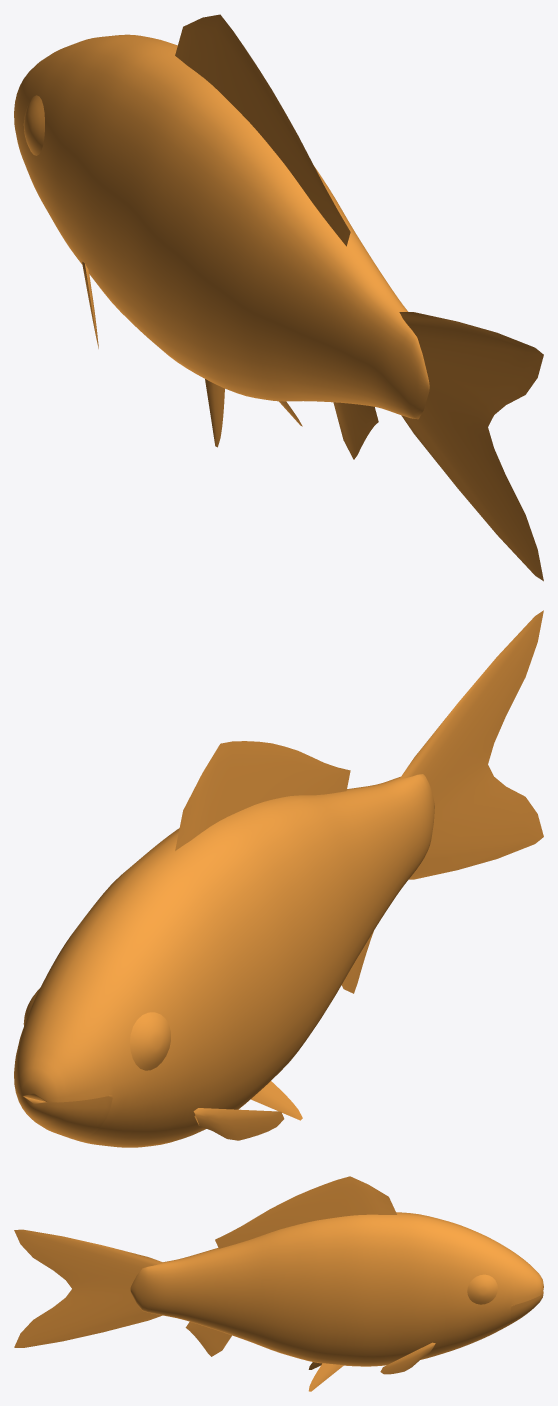
File: goldfish_common.glb
3 renders of one model, top to bottom at view 1: azimuth 30°, elevation 25°; view 2: azimuth 150°, elevation 25°; view 3: azimuth 270°, elevation 25°, orthographic. The views are drawn at different scales.
Parts seen in each view (by area): view 1: goldfish_common; view 2: goldfish_common; view 3: goldfish_common.
Boxes of the visible parts, x1=… form: goldfish_common: x1=14, y1=14, x2=543, y2=581; goldfish_common: x1=14, y1=610, x2=543, y2=1147; goldfish_common: x1=14, y1=1176, x2=543, y2=1391.
Bounding box in the file's own units: 0.0313 × 0.0633 × 0.1485.
